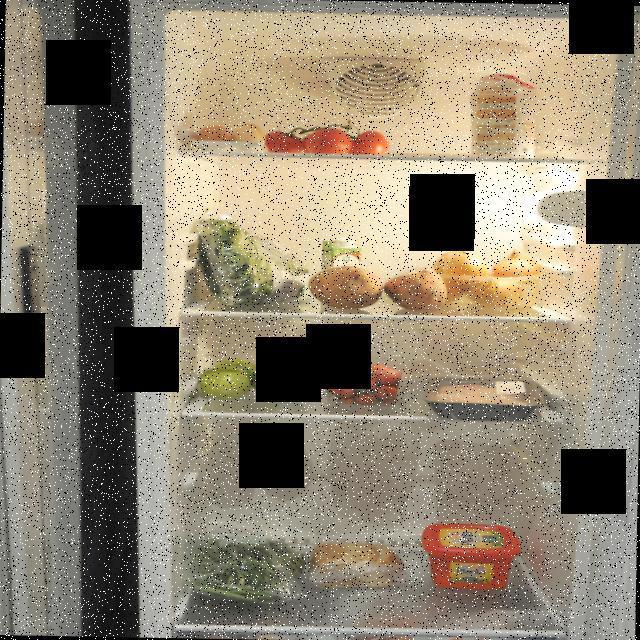apple: (194, 356, 310, 404)
bread: (305, 536, 408, 590)
butter: (418, 521, 520, 592)
chicken_breast: (420, 374, 548, 421)
eggs: (190, 121, 267, 152)
green_beans: (190, 534, 306, 606)
heavy_cream: (321, 236, 364, 302)
onion: (424, 246, 540, 314)
spinach: (190, 212, 310, 310)
strawberries: (322, 359, 408, 406)
sugar: (465, 68, 540, 160)
sweet_potato: (302, 262, 454, 312)
tomato: (256, 124, 392, 156)
